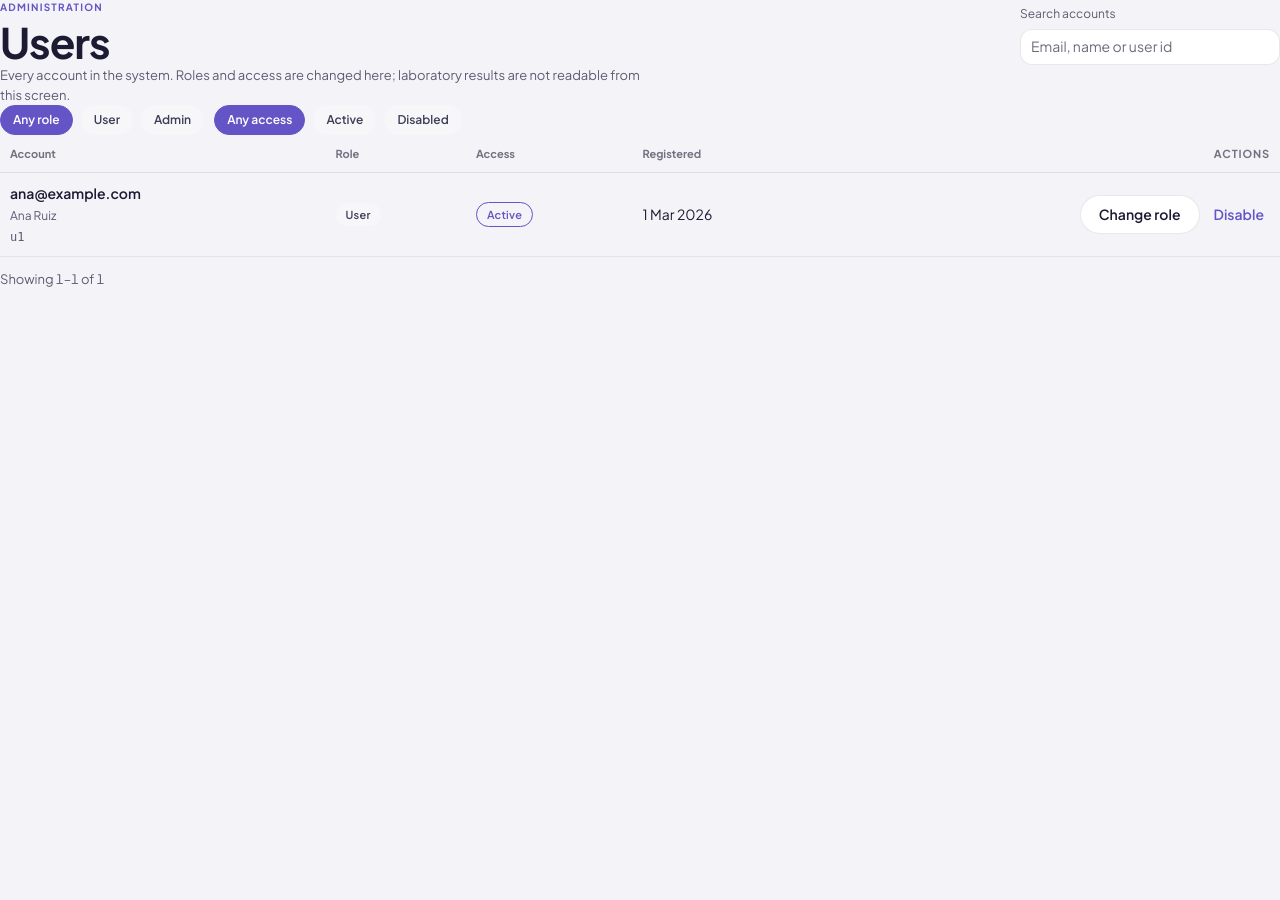
Test case: changing a role › keeps the dialog open and explains a refusal
Click the button with aria-label "Change the role of ana@example.com": {"x": 1140, "y": 215} 1080,196 -> 1200,234
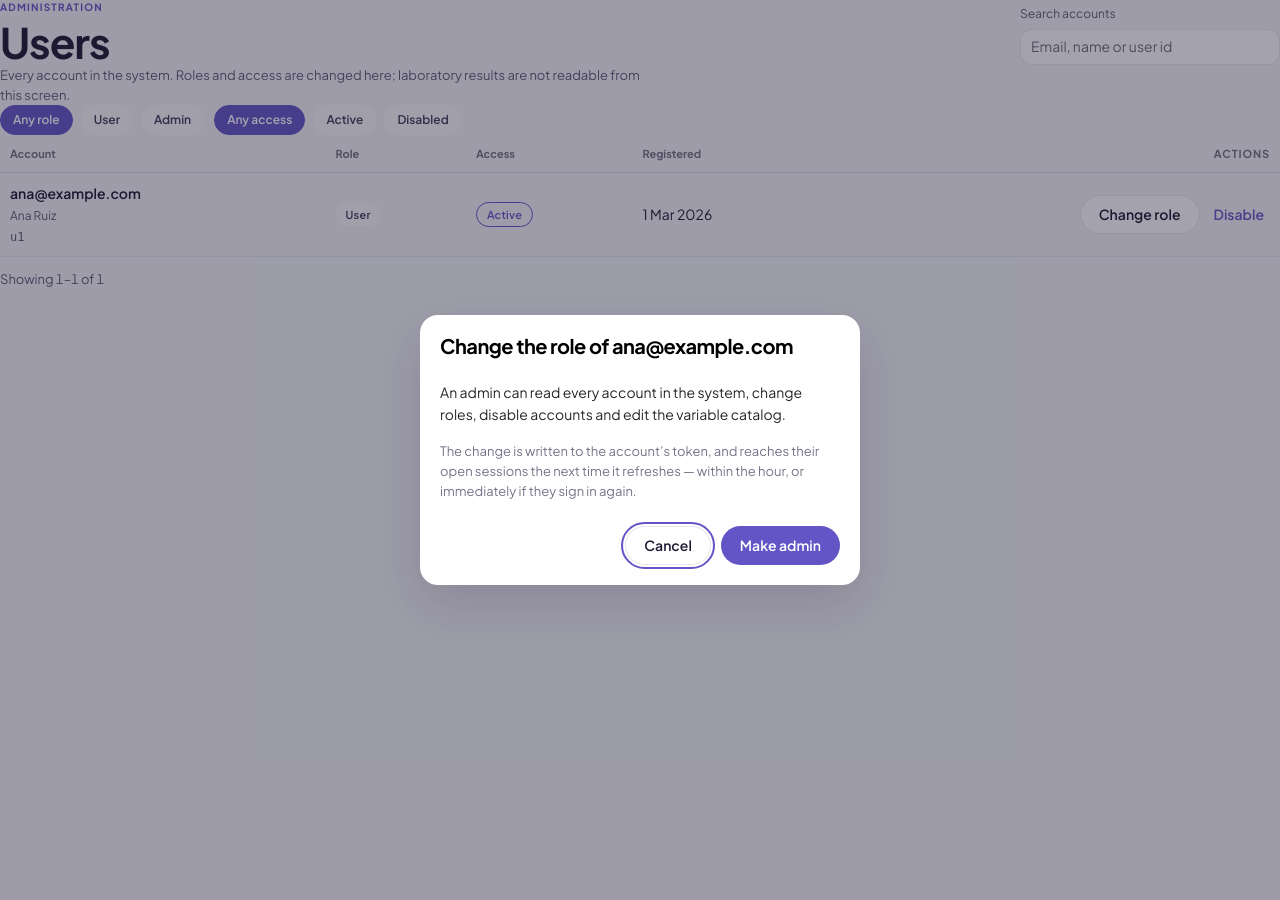
Click the button "Make admin": {"x": 780, "y": 546} 721,526 -> 840,565
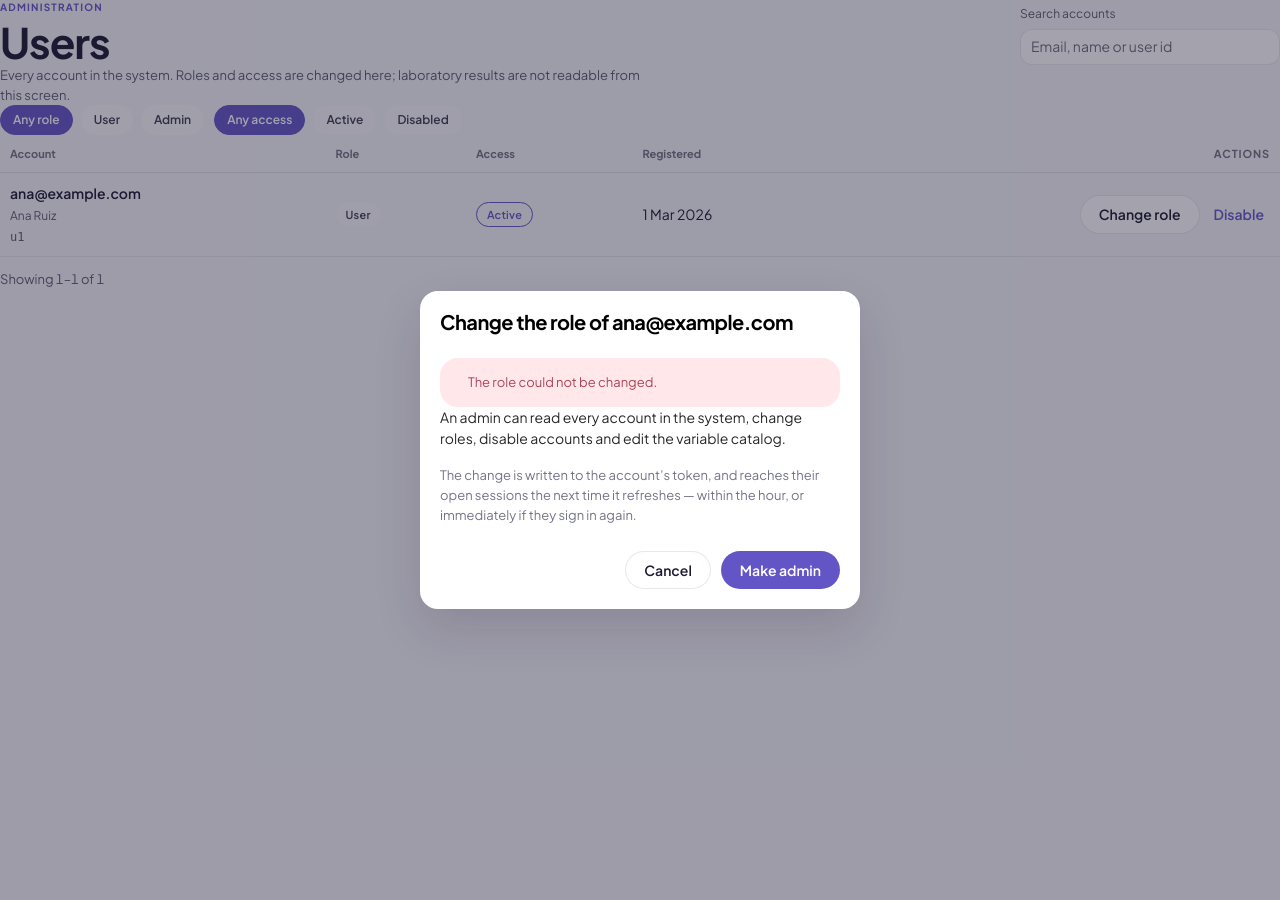
expect the dialog is shown: met, box 420,291 -> 860,609
expect the text "The role could not be changed." is shown: met, box 468,372 -> 657,393
